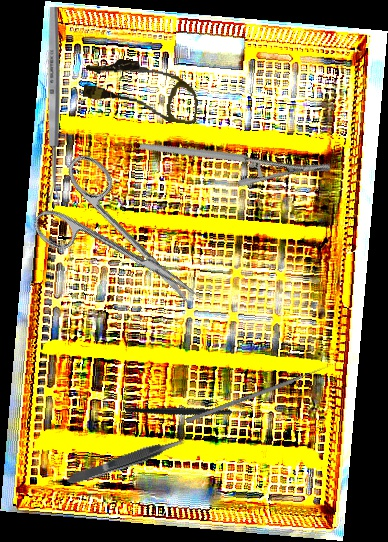Cannula: (81, 55, 202, 125)
Chopper: (124, 363, 255, 455)
Iris Scissors: (20, 148, 224, 340)
Needle Holder: (138, 84, 333, 229)
Pusher: (185, 363, 332, 424)
Surgical Spoon: (47, 7, 60, 203)
Tissue Forceps: (64, 433, 190, 488)
